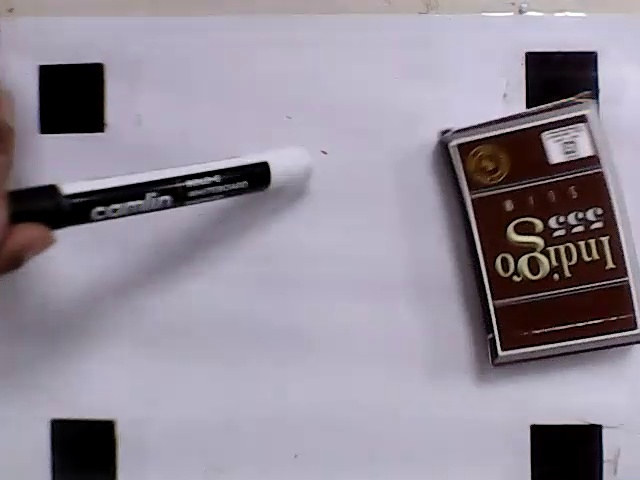BEX: (452, 112, 638, 353)
